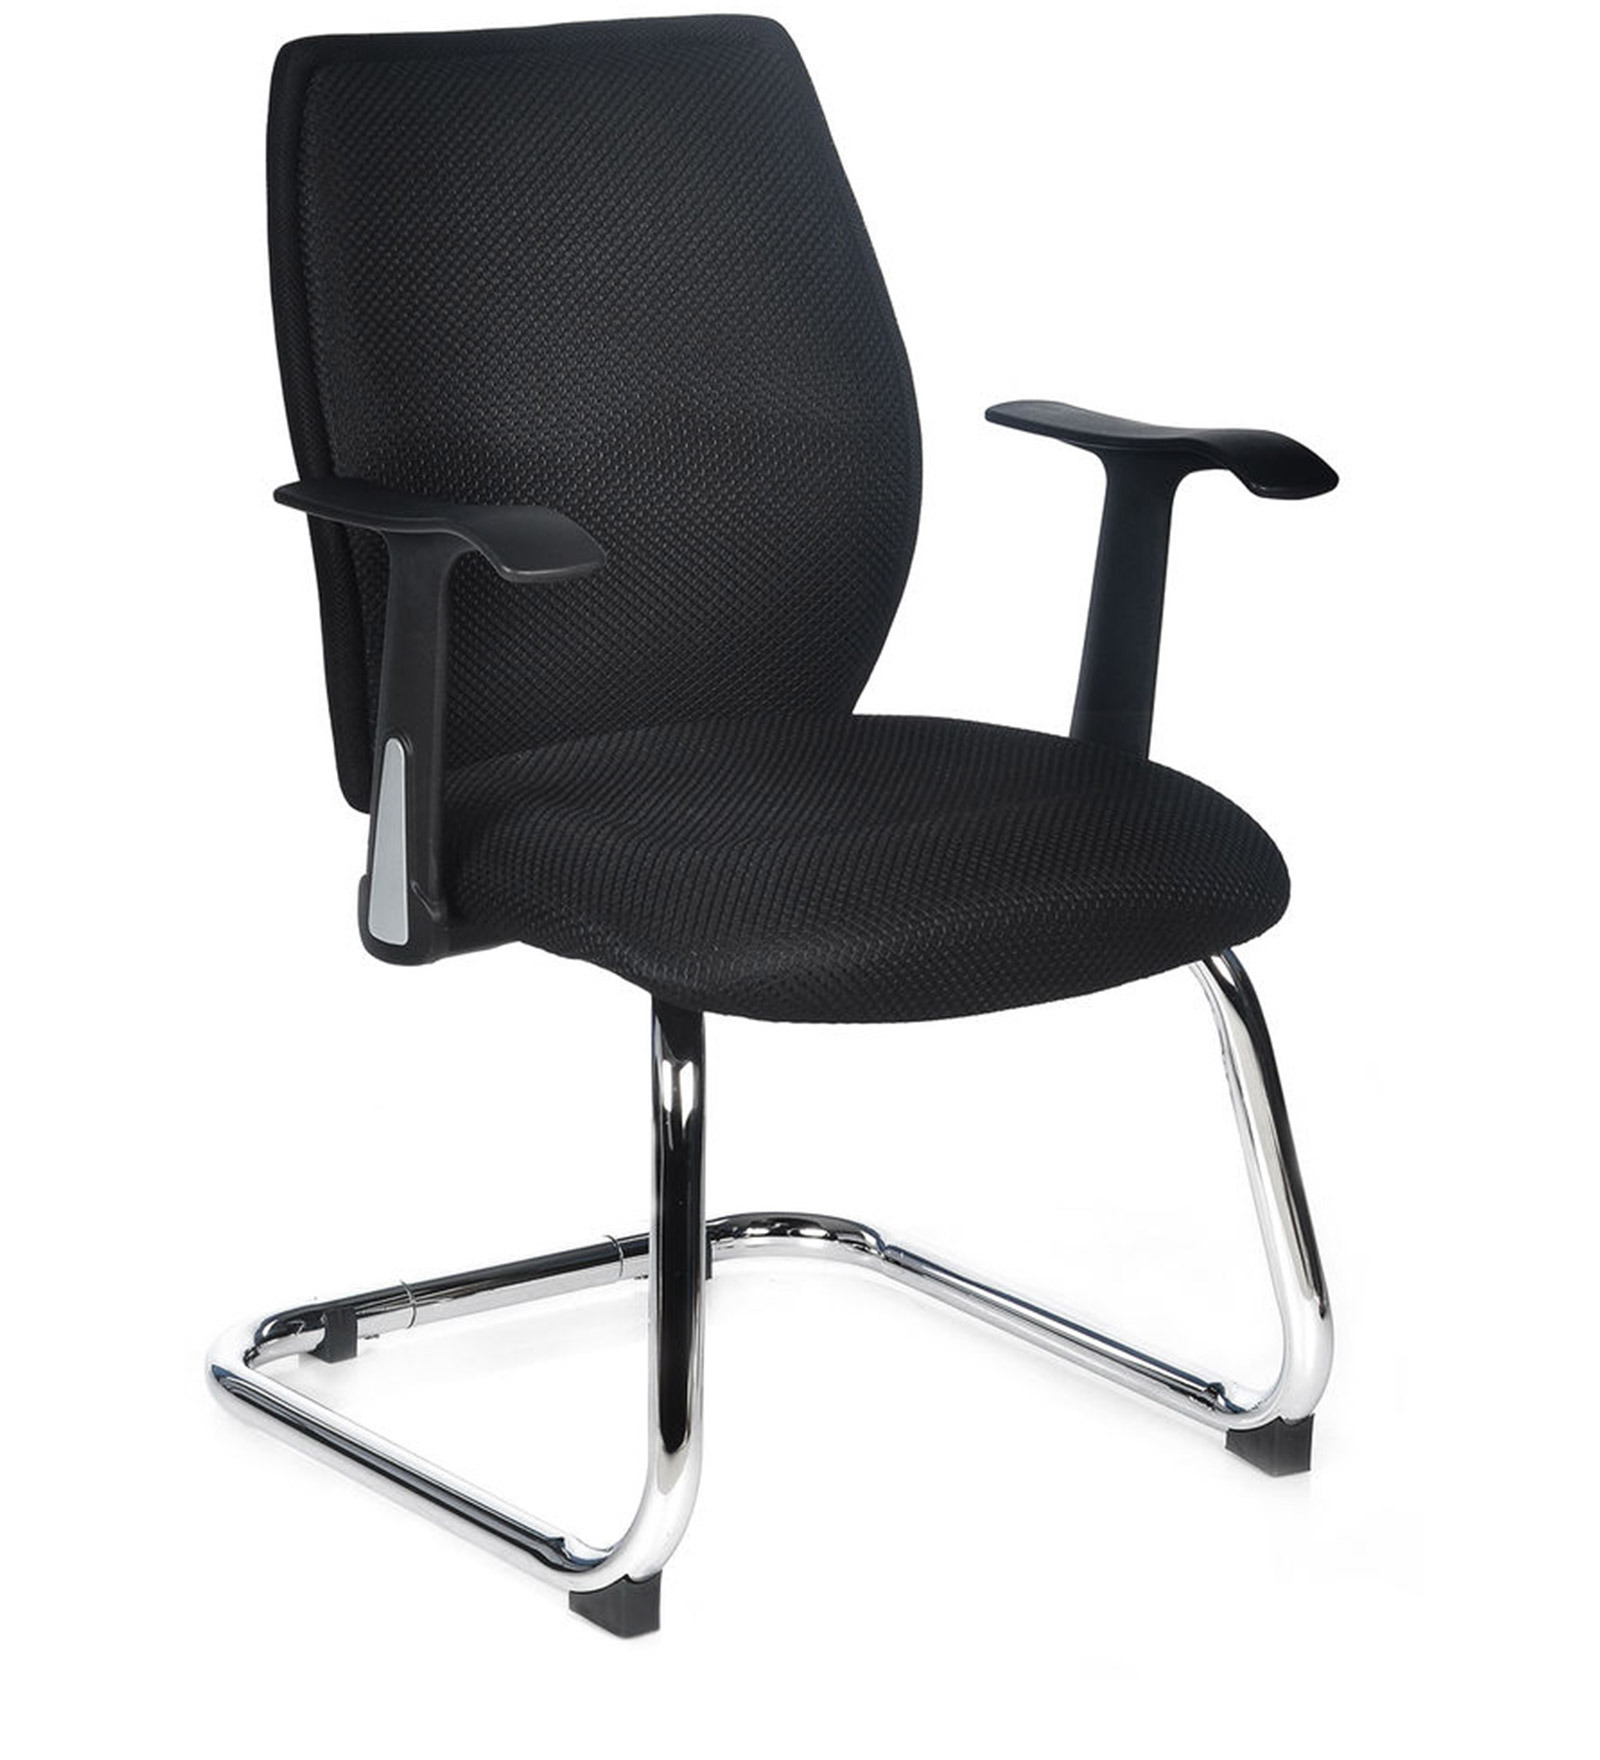Blaze Chair in Black Colour by Nilkamal: (173, 20, 1392, 1693)
